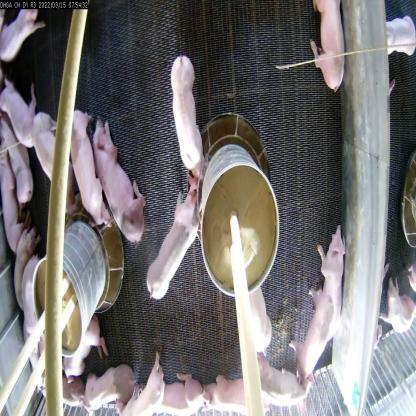Pig: (88, 117, 150, 246), (144, 184, 201, 312), (64, 106, 104, 236), (168, 55, 208, 184), (130, 357, 205, 415), (250, 348, 310, 415), (303, 0, 347, 91), (295, 273, 326, 399), (319, 209, 344, 353), (36, 96, 70, 185), (78, 356, 130, 414), (0, 155, 31, 251), (239, 286, 269, 350), (4, 88, 33, 153), (214, 378, 258, 416)
